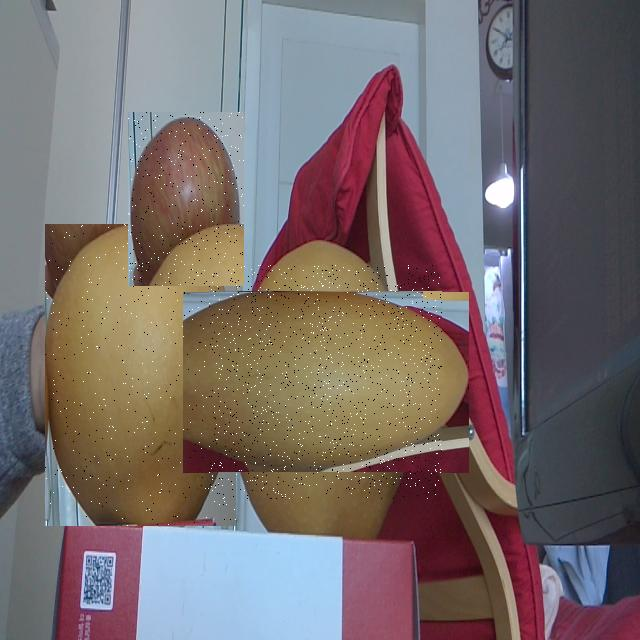apple: (128, 112, 244, 286)
pear: (45, 224, 236, 526), (209, 266, 442, 500)
